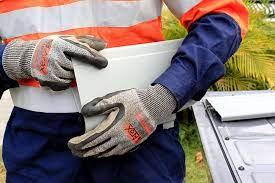Jacket: (8, 2, 245, 57)
gloves: (66, 99, 177, 161), (2, 36, 103, 83)
